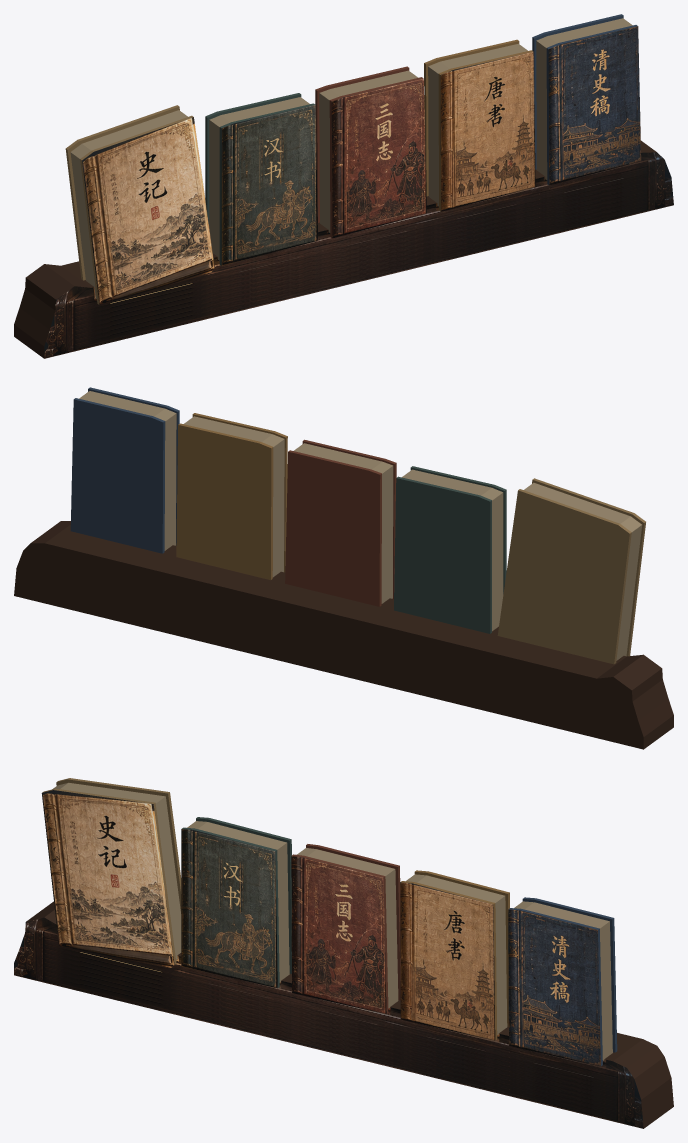
Rendered from history-books.glb.
3 renders of one model, top to bottom at view 1: azimuth 30°, elevation 25°; view 2: azimuth 150°, elevation 25°; view 3: azimuth 330°, elevation 25°, orthographic.
Parts seen in each view (by area): view 1: Carved walnut display plinth camera-mapped front, shiji fabric cover camera-mapped front, hanshu fabric cover camera-mapped front, jiutangshu fabric cover camera-mapped front, sanguozhi fabric cover camera-mapped front, qingshigao fabric cover camera-mapped front, Carved walnut display plinth physical thickness, shiji page block physical thickness, sanguozhi page block physical thickness, jiutangshu page block physical thickness, qingshigao page block physical thickness, hanshu page block physical thickness (+12 smaller); view 2: Carved walnut display plinth physical thickness, shiji rear board physical thickness, hanshu rear board physical thickness, jiutangshu rear board physical thickness, sanguozhi rear board physical thickness, qingshigao rear board physical thickness, shiji page block physical thickness, jiutangshu page block physical thickness, sanguozhi page block physical thickness, qingshigao page block physical thickness, hanshu page block physical thickness, shiji fabric cover physical thickness (+4 smaller); view 3: Carved walnut display plinth camera-mapped front, shiji fabric cover camera-mapped front, hanshu fabric cover camera-mapped front, jiutangshu fabric cover camera-mapped front, sanguozhi fabric cover camera-mapped front, qingshigao fabric cover camera-mapped front, Carved walnut display plinth physical thickness, shiji page block physical thickness, hanshu page block physical thickness, sanguozhi page block physical thickness, jiutangshu page block physical thickness, qingshigao page block physical thickness (+12 smaller).
Boxes of the visible parts, <box> form: Carved walnut display plinth camera-mapped front: <box>44,152,673,358</box>; shiji fabric cover camera-mapped front: <box>82,117,214,304</box>; hanshu fabric cover camera-mapped front: <box>221,105,317,265</box>; jiutangshu fabric cover camera-mapped front: <box>440,51,535,211</box>; sanguozhi fabric cover camera-mapped front: <box>331,78,426,238</box>; qingshigao fabric cover camera-mapped front: <box>548,26,641,185</box>; Carved walnut display plinth physical thickness: <box>14,140,656,358</box>; shiji page block physical thickness: <box>70,110,187,298</box>; sanguozhi page block physical thickness: <box>319,70,417,232</box>; jiutangshu page block physical thickness: <box>428,43,527,206</box>; qingshigao page block physical thickness: <box>536,18,632,179</box>; hanshu page block physical thickness: <box>209,97,309,260</box>; Carved walnut display plinth physical thickness: <box>14,521,673,749</box>; shiji rear board physical thickness: <box>497,489,631,664</box>; hanshu rear board physical thickness: <box>394,476,491,633</box>; jiutangshu rear board physical thickness: <box>176,423,273,580</box>; sanguozhi rear board physical thickness: <box>285,450,381,606</box>; qingshigao rear board physical thickness: <box>70,398,165,553</box>; shiji page block physical thickness: <box>524,482,642,660</box>; jiutangshu page block physical thickness: <box>183,416,284,577</box>; sanguozhi page block physical thickness: <box>294,443,393,603</box>; qingshigao page block physical thickness: <box>79,391,176,550</box>; hanshu page block physical thickness: <box>402,469,503,631</box>; shiji fabric cover physical thickness: <box>532,478,645,656</box>; Carved walnut display plinth camera-mapped front: <box>14,917,643,1128</box>; shiji fabric cover camera-mapped front: <box>41,790,174,968</box>; hanshu fabric cover camera-mapped front: <box>181,829,277,988</box>; jiutangshu fabric cover camera-mapped front: <box>400,882,495,1040</box>; sanguozhi fabric cover camera-mapped front: <box>291,856,386,1013</box>; qingshigao fabric cover camera-mapped front: <box>508,909,600,1066</box>; Carved walnut display plinth physical thickness: <box>26,901,673,1128</box>; shiji page block physical thickness: <box>52,782,181,959</box>; hanshu page block physical thickness: <box>187,821,289,982</box>; sanguozhi page block physical thickness: <box>297,848,398,1008</box>; jiutangshu page block physical thickness: <box>406,874,507,1034</box>; qingshigao page block physical thickness: <box>514,901,612,1060</box>.
Bounding box in the file's own units: 10.19 × 3.25 × 0.9958.
Materials: 9 (1 with a texture image).
